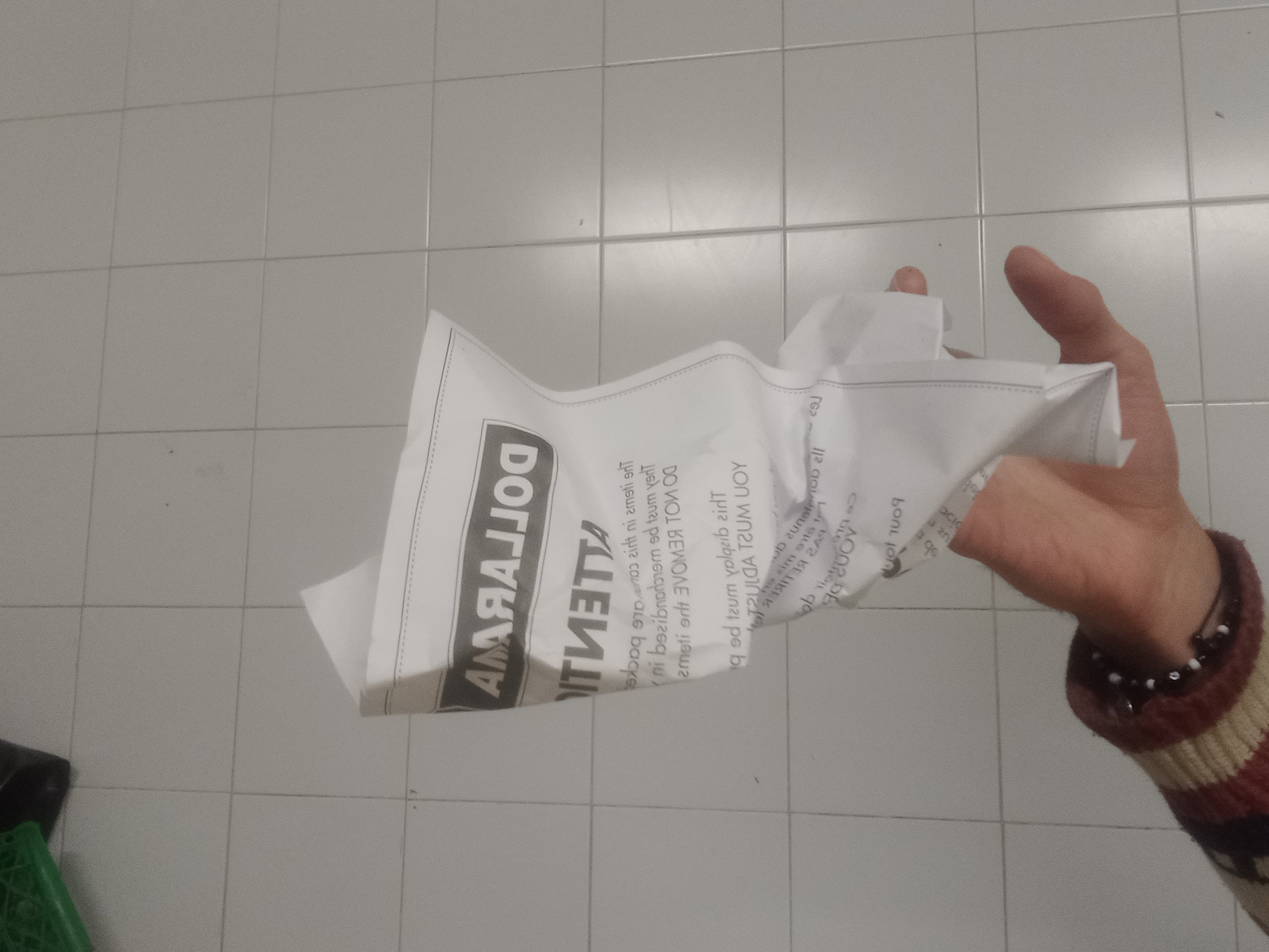Papel: (300, 293, 1142, 714)
